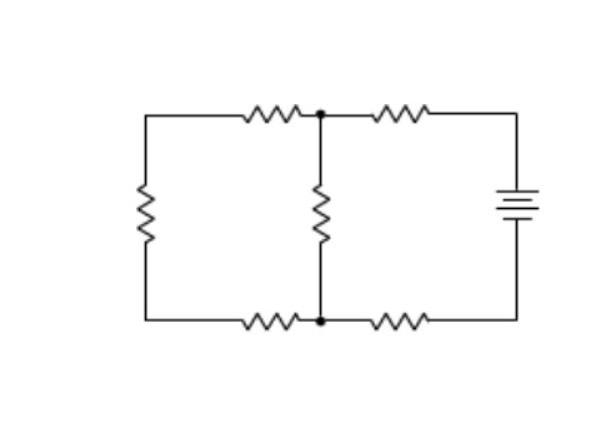resistor: (359, 298, 448, 344), (354, 91, 447, 132), (224, 291, 306, 337), (128, 168, 169, 260), (230, 91, 300, 137), (304, 169, 341, 245)
